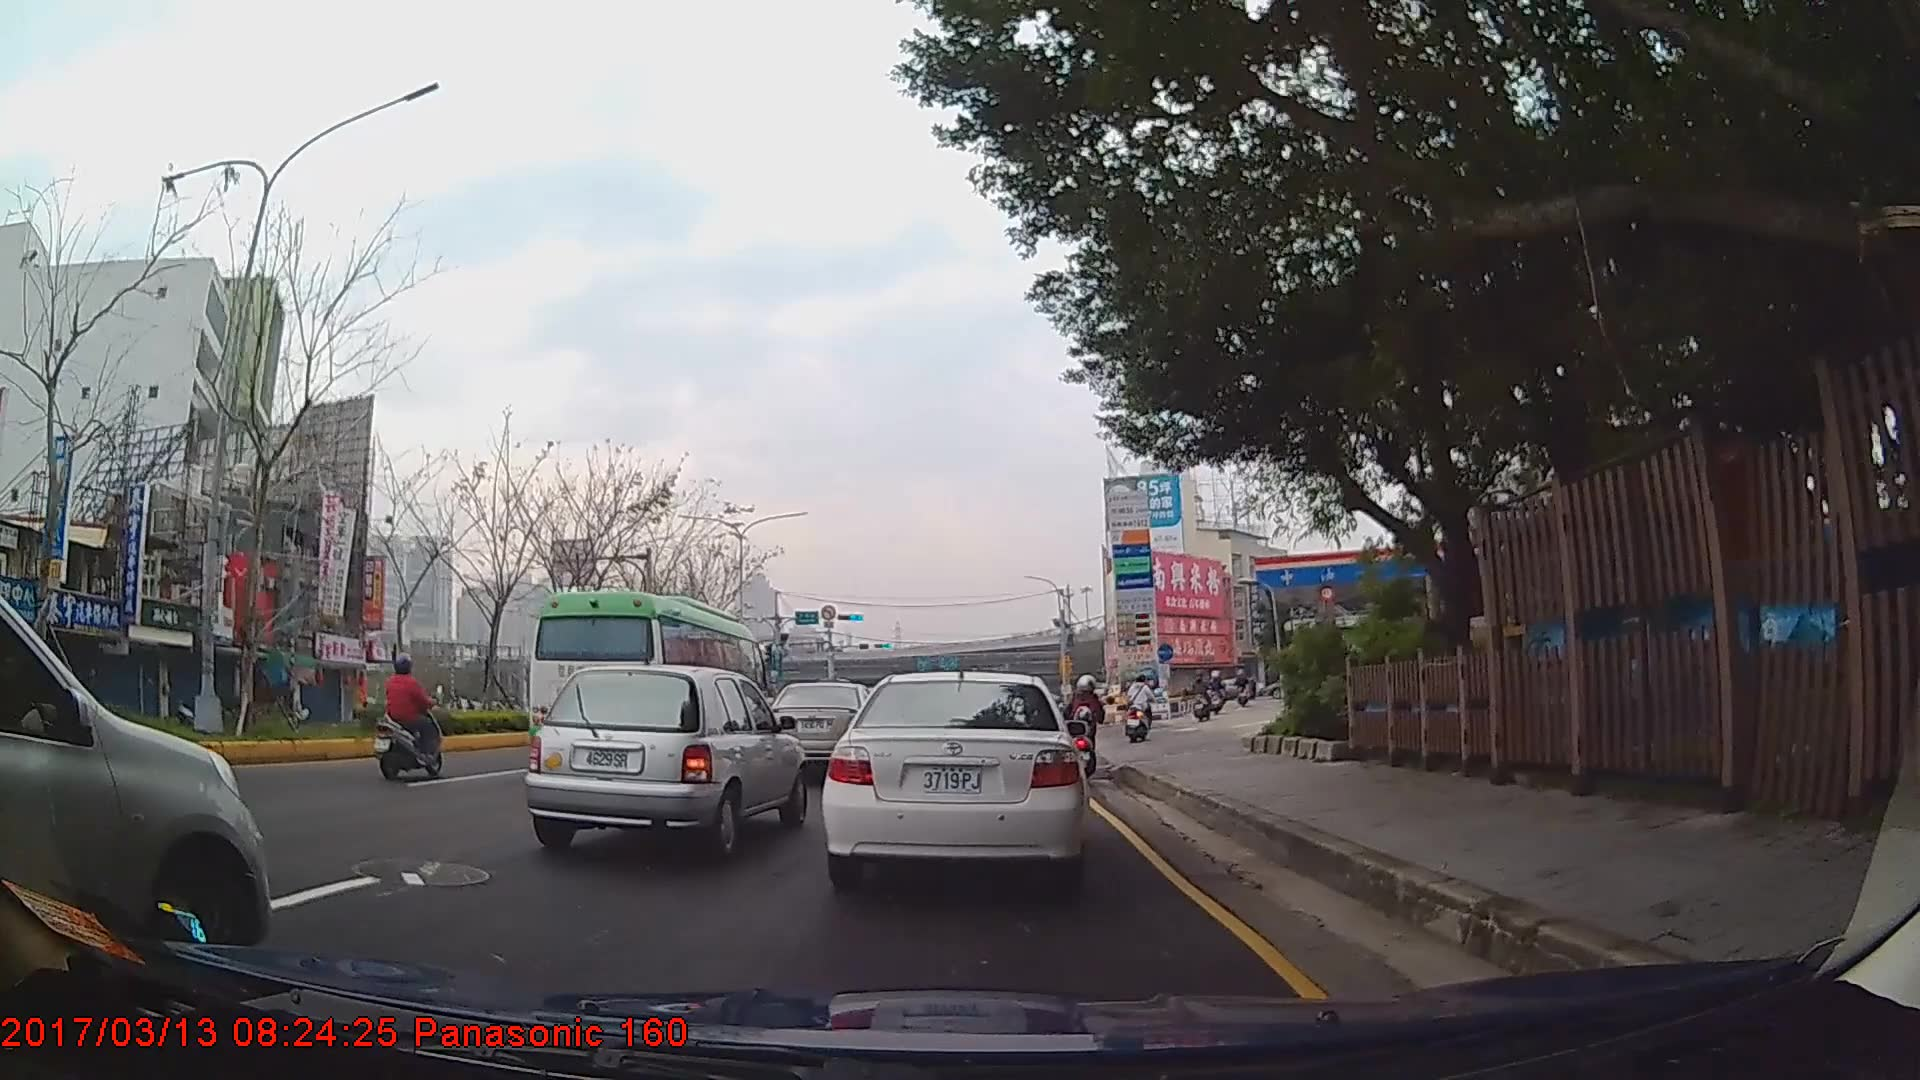rider: (372, 654, 445, 788), (1066, 673, 1109, 779), (1125, 672, 1154, 744), (1192, 670, 1212, 722)
vehicle: (0, 592, 270, 971), (823, 669, 1088, 884), (520, 661, 808, 856), (523, 587, 772, 784), (764, 680, 882, 772)
